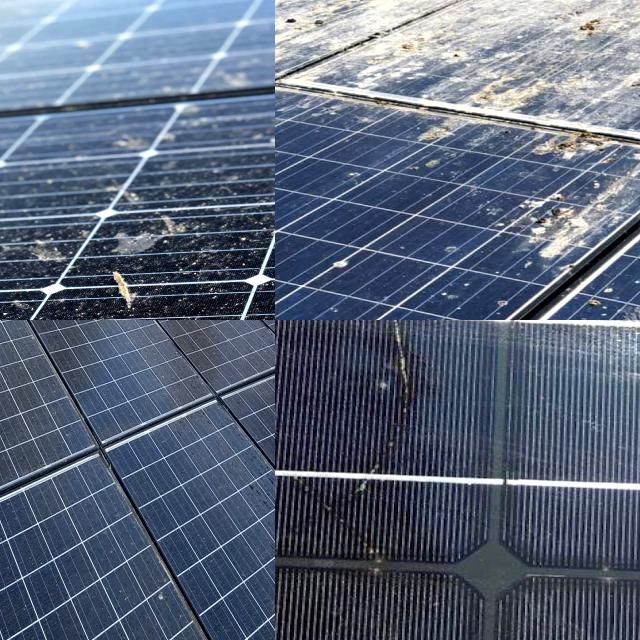bird: (73, 206, 211, 311), (508, 168, 626, 266), (275, 0, 416, 49), (370, 120, 468, 186), (537, 0, 633, 66), (303, 223, 399, 289), (91, 116, 207, 168), (421, 0, 515, 44), (431, 292, 532, 320)
dust: (186, 429, 242, 640), (35, 473, 87, 640), (84, 320, 161, 425), (0, 320, 34, 487), (182, 320, 237, 401), (262, 395, 275, 616)
shadow: (348, 320, 437, 510)
